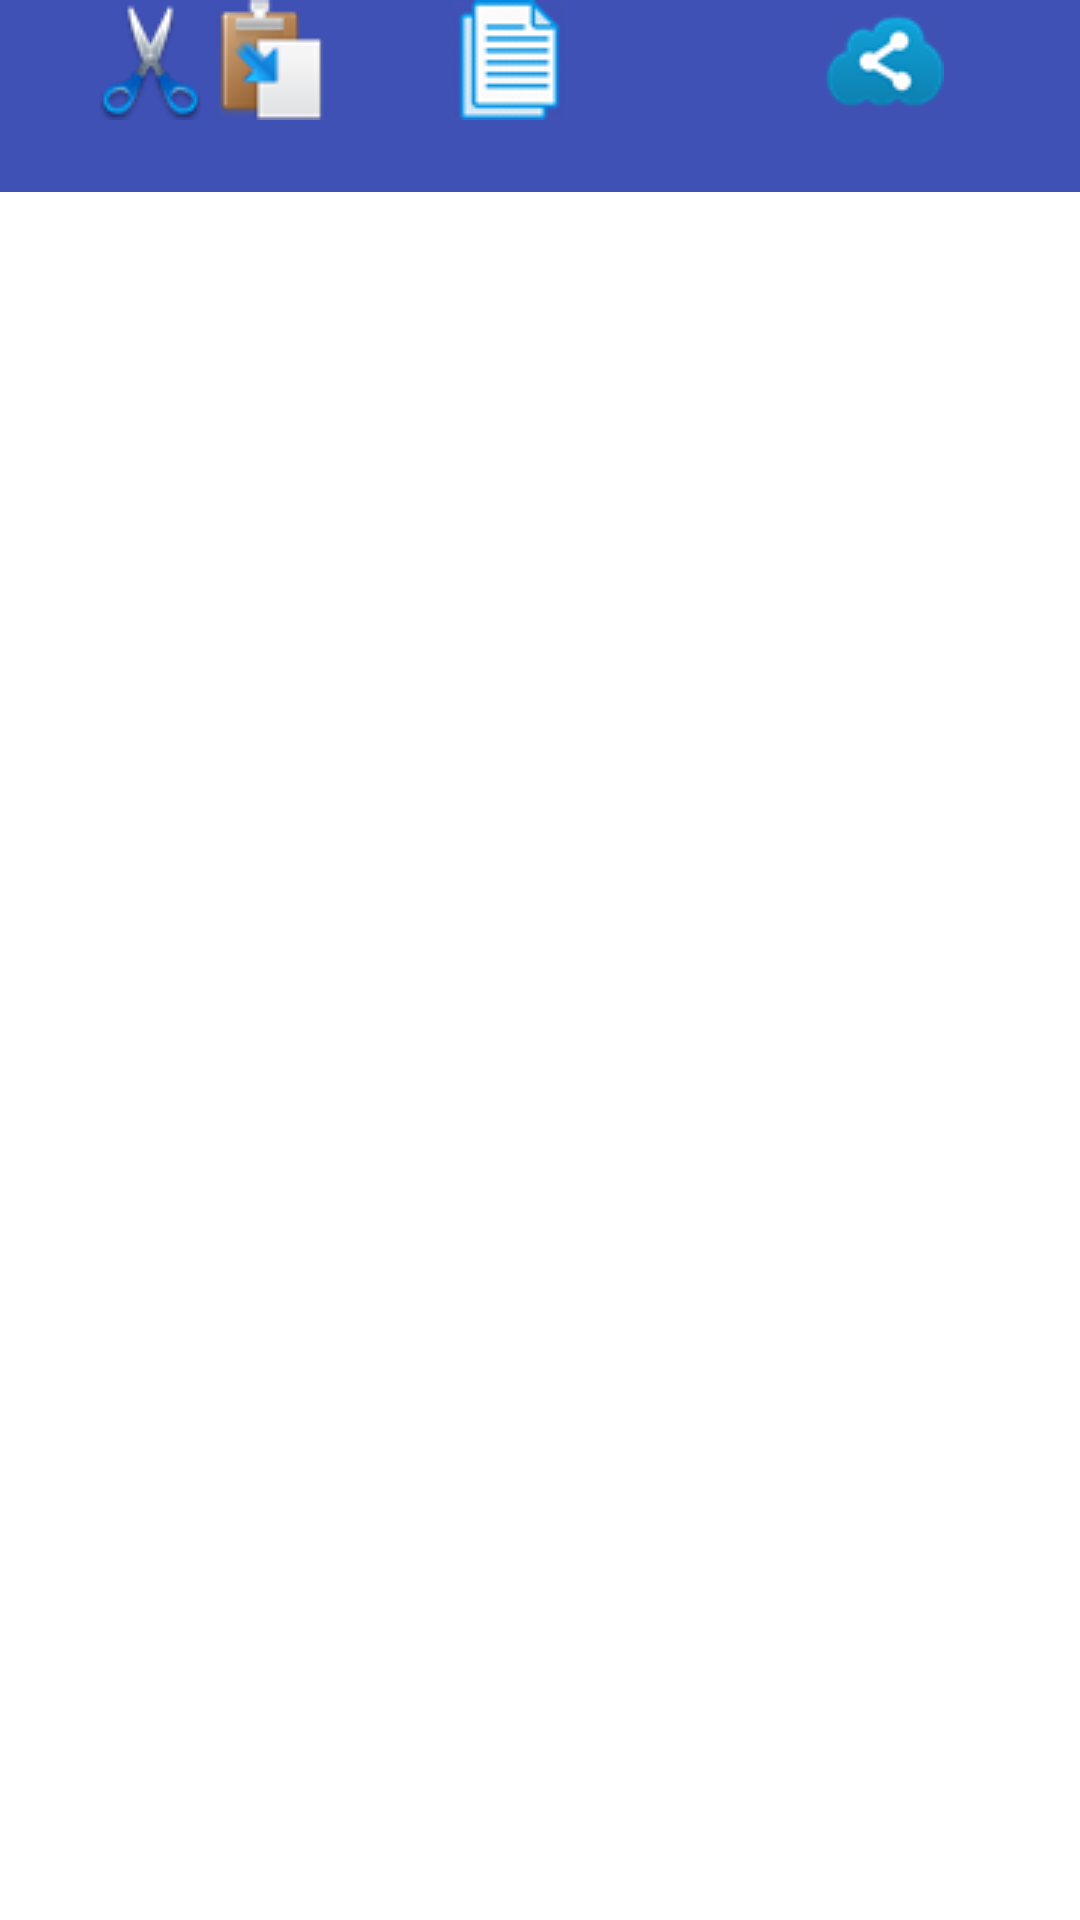

Named icons in this screenshot (1080px x 1920px) and their bounding boxes, (x1, y1, x2, y2):
cut: (102, 6, 199, 120)
paste: (220, 0, 321, 120)
share: (827, 17, 944, 105)
